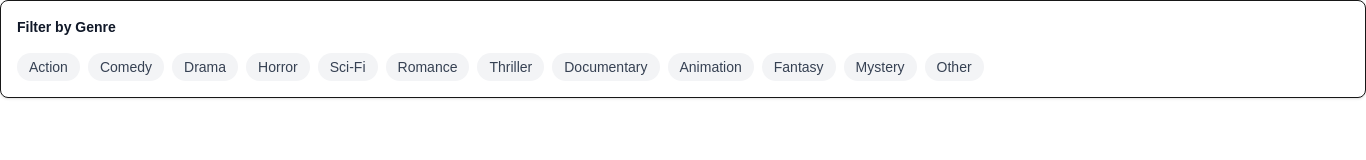
Test: GenreFilter › should show selected count
What coordinates should you click on to do the following:
click the button "Action"
I would click on:
 (48, 67)
Its box is [17,53,80,81].
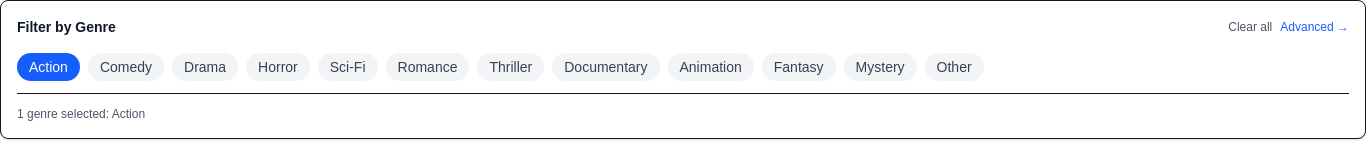
What coordinates should you click on to do the following:
click the button "Comedy"
I would click on:
 (126, 67)
Its box is [88,53,164,81].
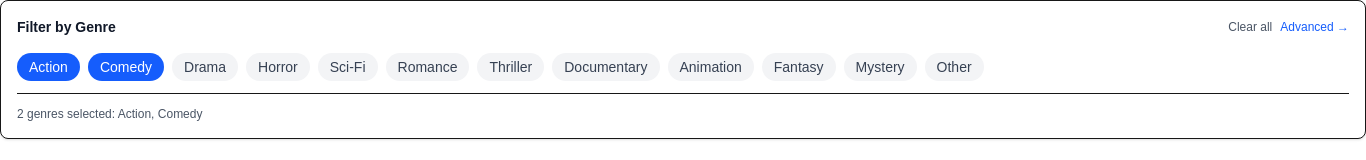
Now the text "2 genres selected: Action, Comedy" is shown, box [17,107,202,121]
